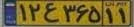character: (42, 1, 61, 25), (27, 1, 42, 26), (61, 1, 76, 24), (76, 2, 89, 25), (88, 4, 102, 25), (17, 1, 28, 26), (117, 5, 129, 23), (104, 7, 115, 25)
